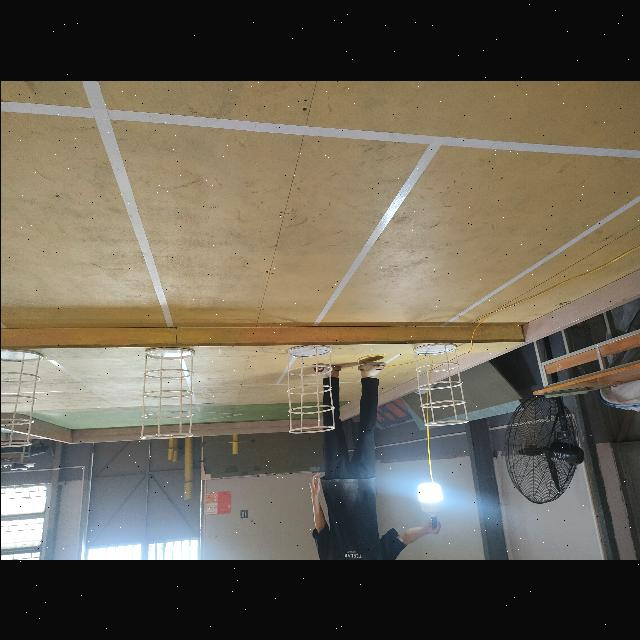S: (406, 340, 468, 426), (143, 342, 195, 442), (282, 344, 336, 434), (1, 346, 44, 446)
